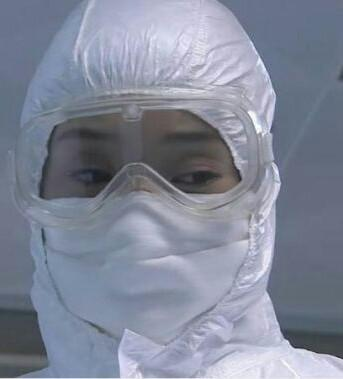OK: (37, 125, 242, 330)
